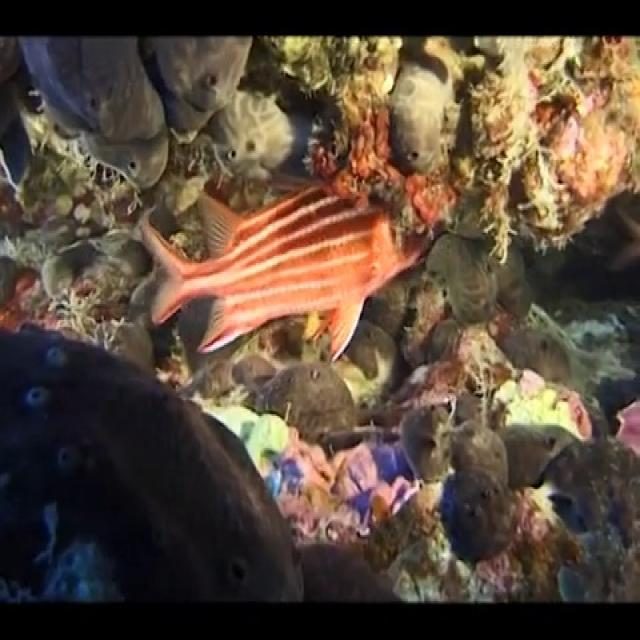Asker Baligi: (139, 178, 433, 362)
